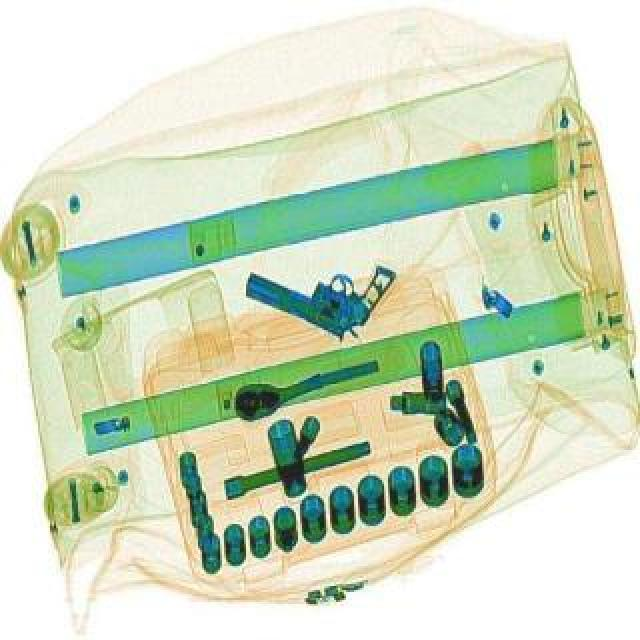gun: (236, 222, 396, 350)
